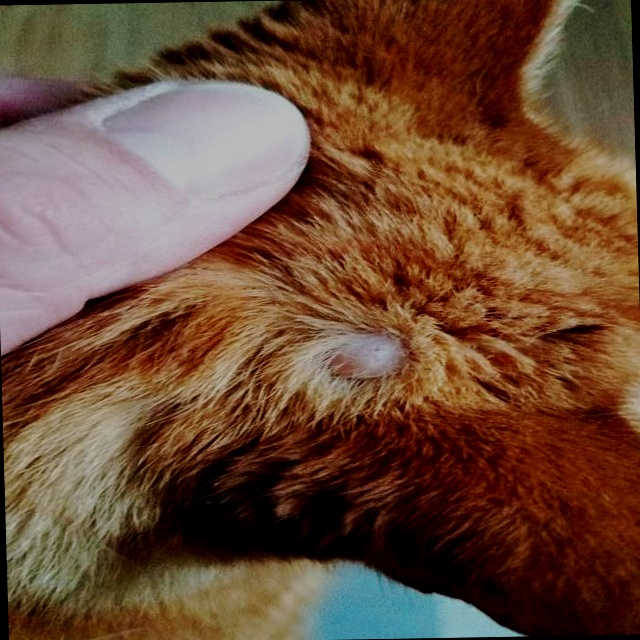lump_and_bump: (320, 328, 411, 390)
